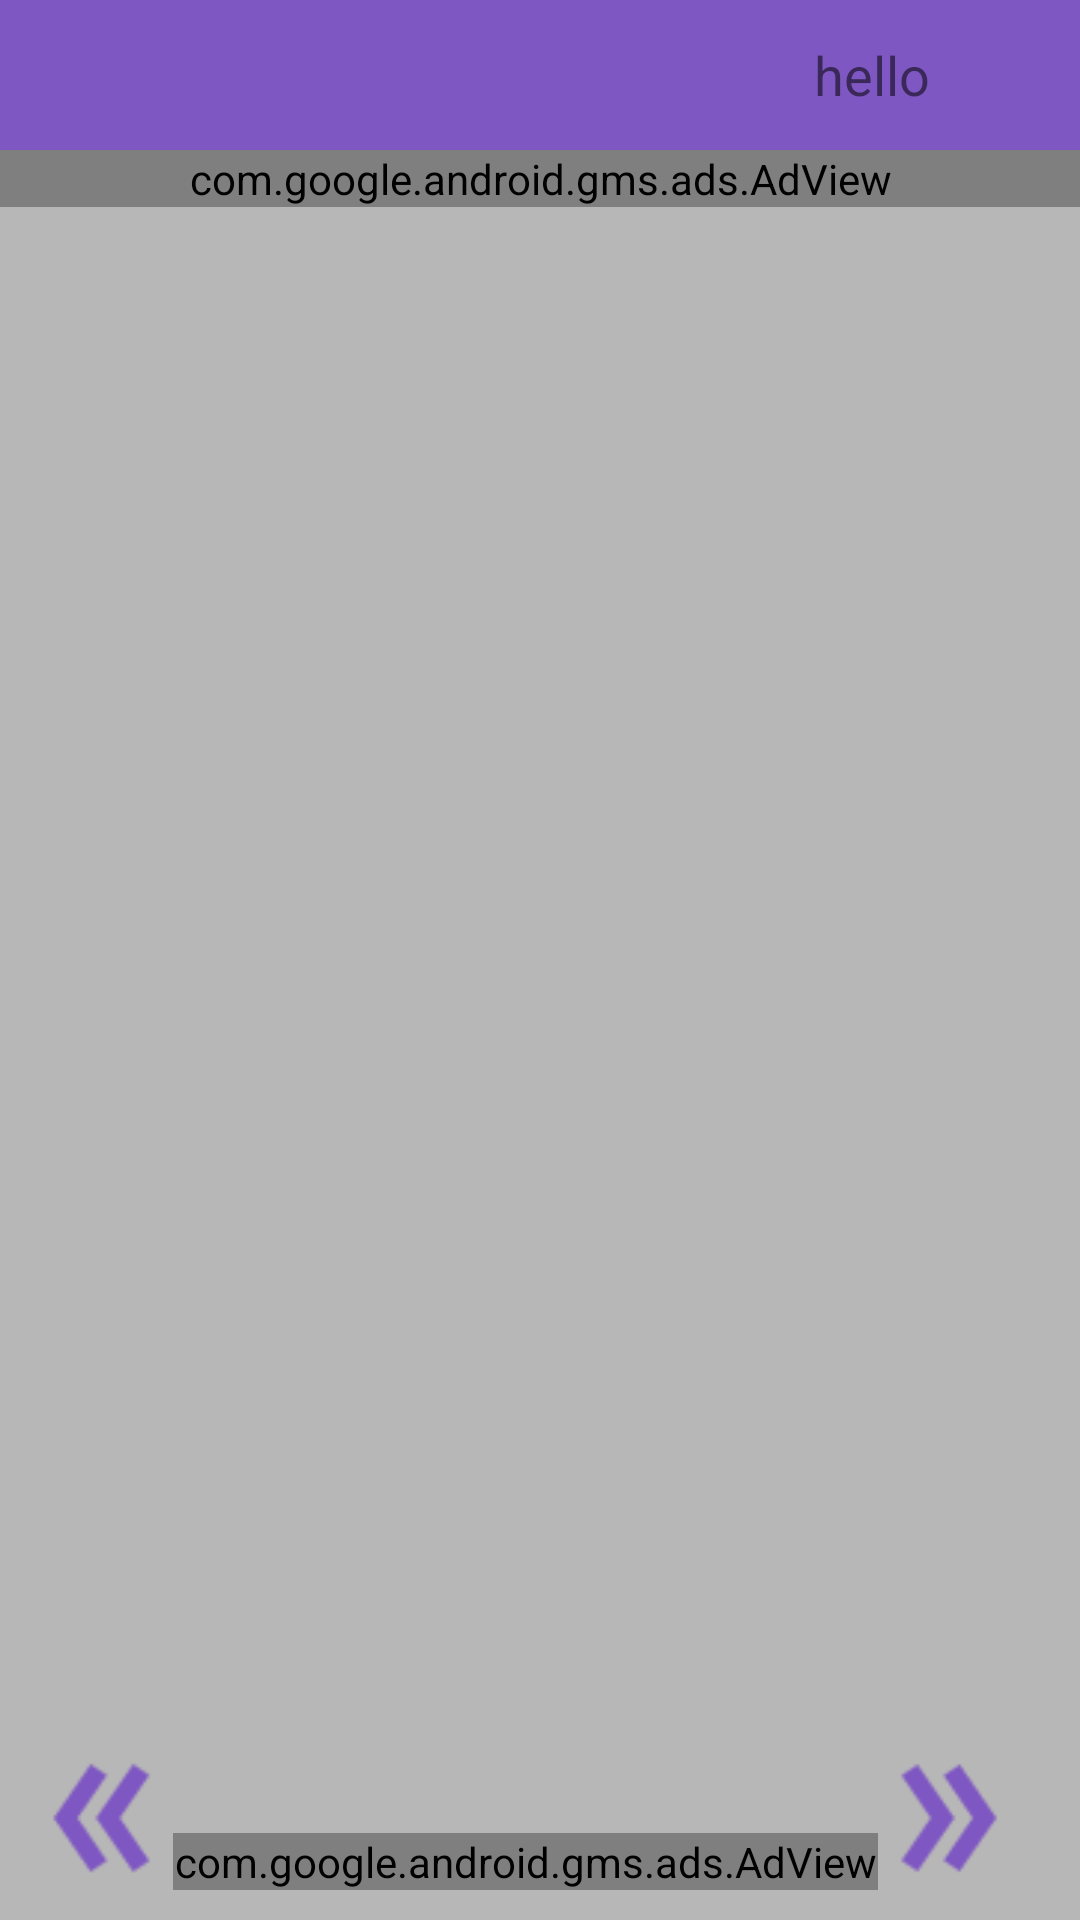

Icons on this 1080*1920 Android screen, each with its box as (x1, y1, x2, y2):
slide: (53, 1764, 149, 1872)
slideon: (901, 1764, 997, 1872)
